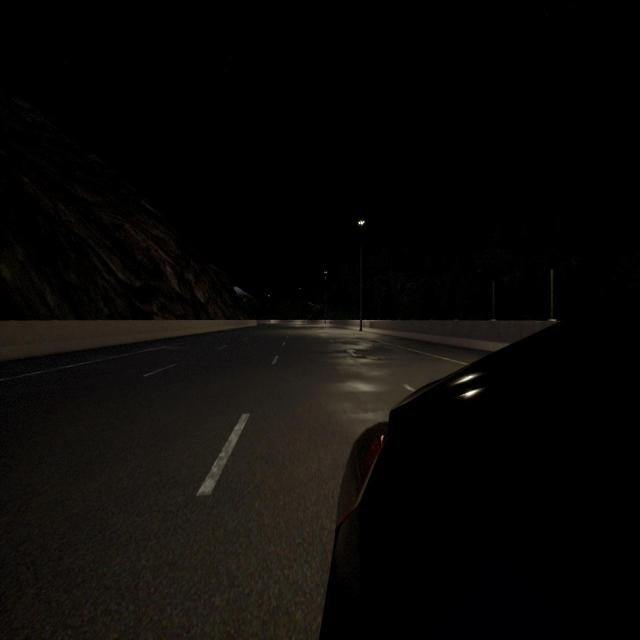Vehicle: (320, 295, 640, 637)
